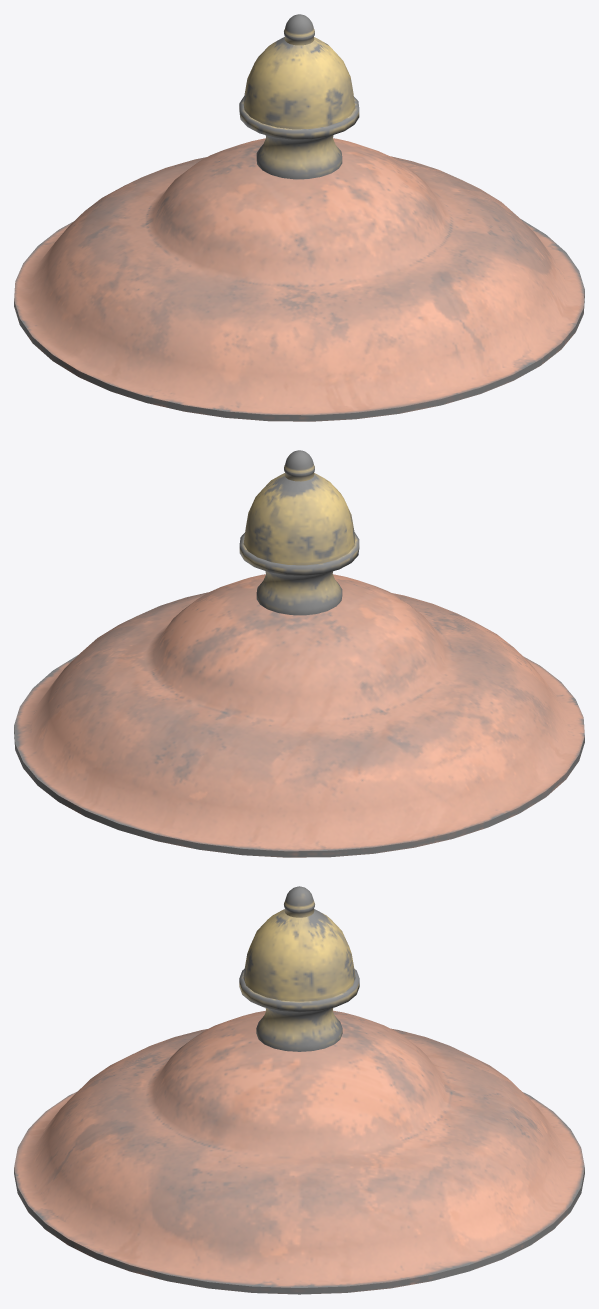
Rendered from SM_Teapot_02b.fbx.
3 renders of one model, top to bottom at view 1: azimuth 30°, elevation 25°; view 2: azimuth 150°, elevation 25°; view 3: azimuth 270°, elevation 25°, orthographic.
Parts seen in each view (by area): view 1: SM_Teapot_02b_LOD0; view 2: SM_Teapot_02b_LOD0; view 3: SM_Teapot_02b_LOD0.
Boxes of the visible parts, x1=… form: SM_Teapot_02b_LOD0: x1=14, y1=14, x2=584, y2=421; SM_Teapot_02b_LOD0: x1=14, y1=450, x2=584, y2=857; SM_Teapot_02b_LOD0: x1=14, y1=886, x2=584, y2=1294.
Bounding box in the file's own units: 24.48 × 24.48 × 13.55.
Materials: 1 (1 with a texture image).
